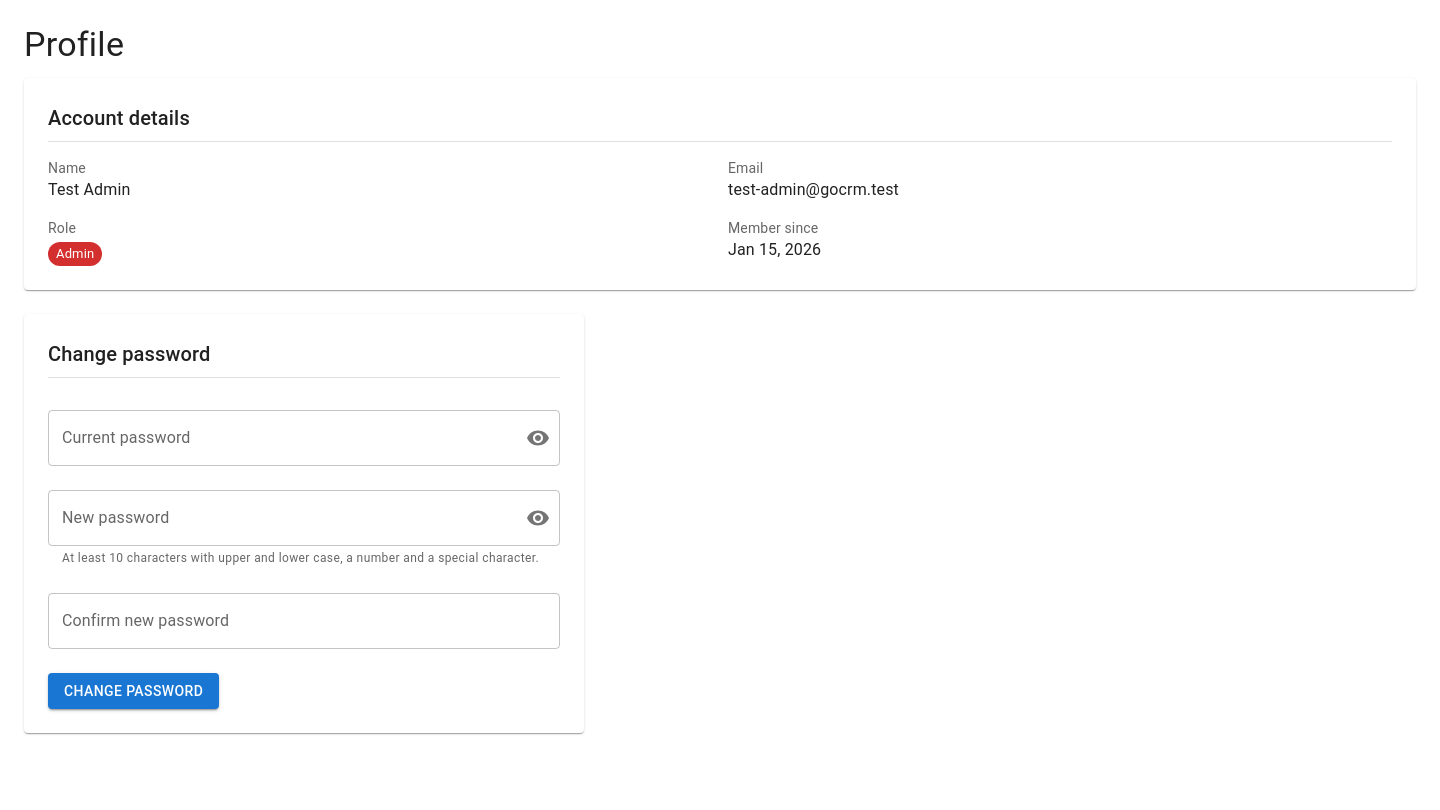
Profile › tells the user to sign in again when the session changed during the request
Type "OldStrongPass1!" into the password field labelled "Current password" at [279, 438], box [48,410,510,466]
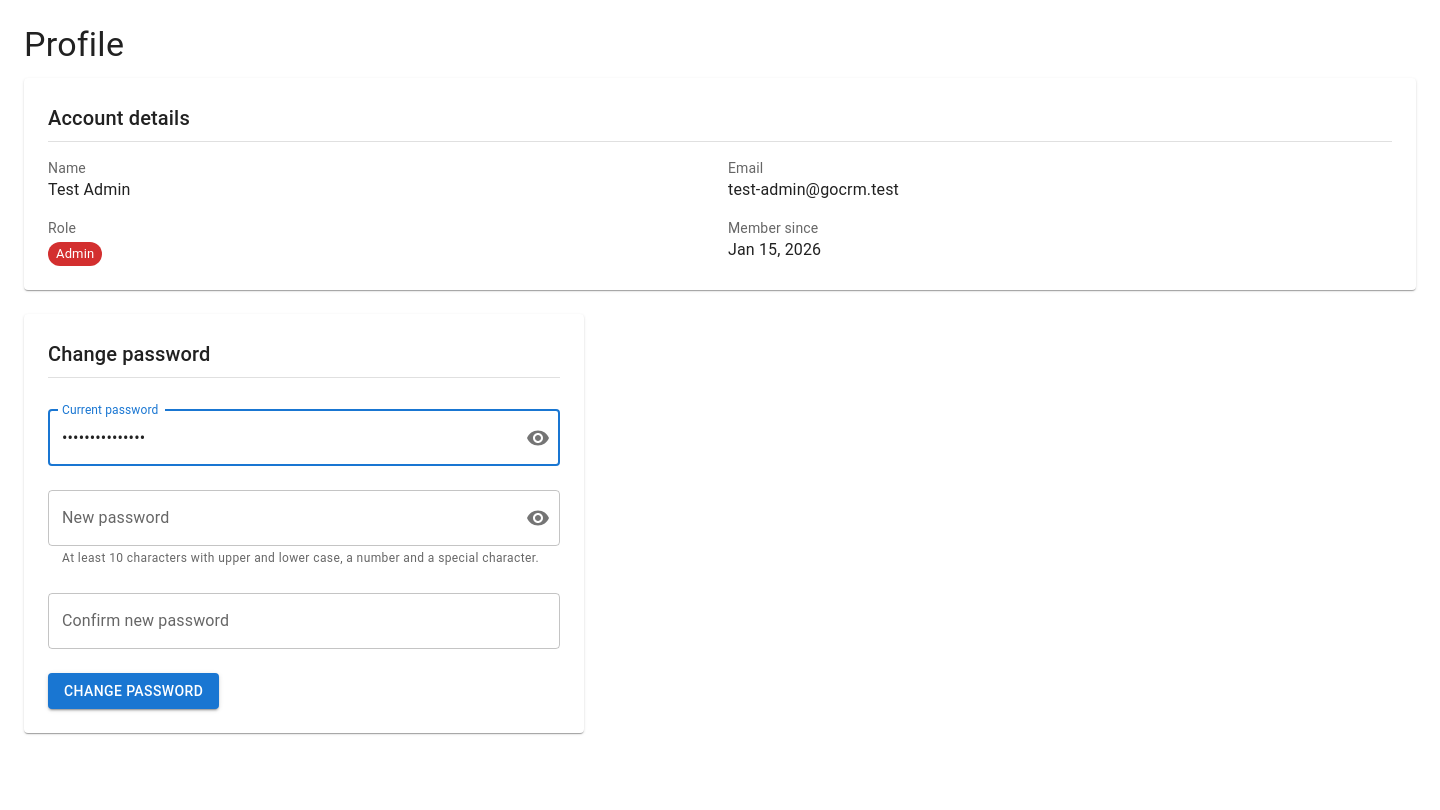
Type "NewStrongPass1!" into the password field labelled "New password" at [279, 518], box [48,490,510,546]
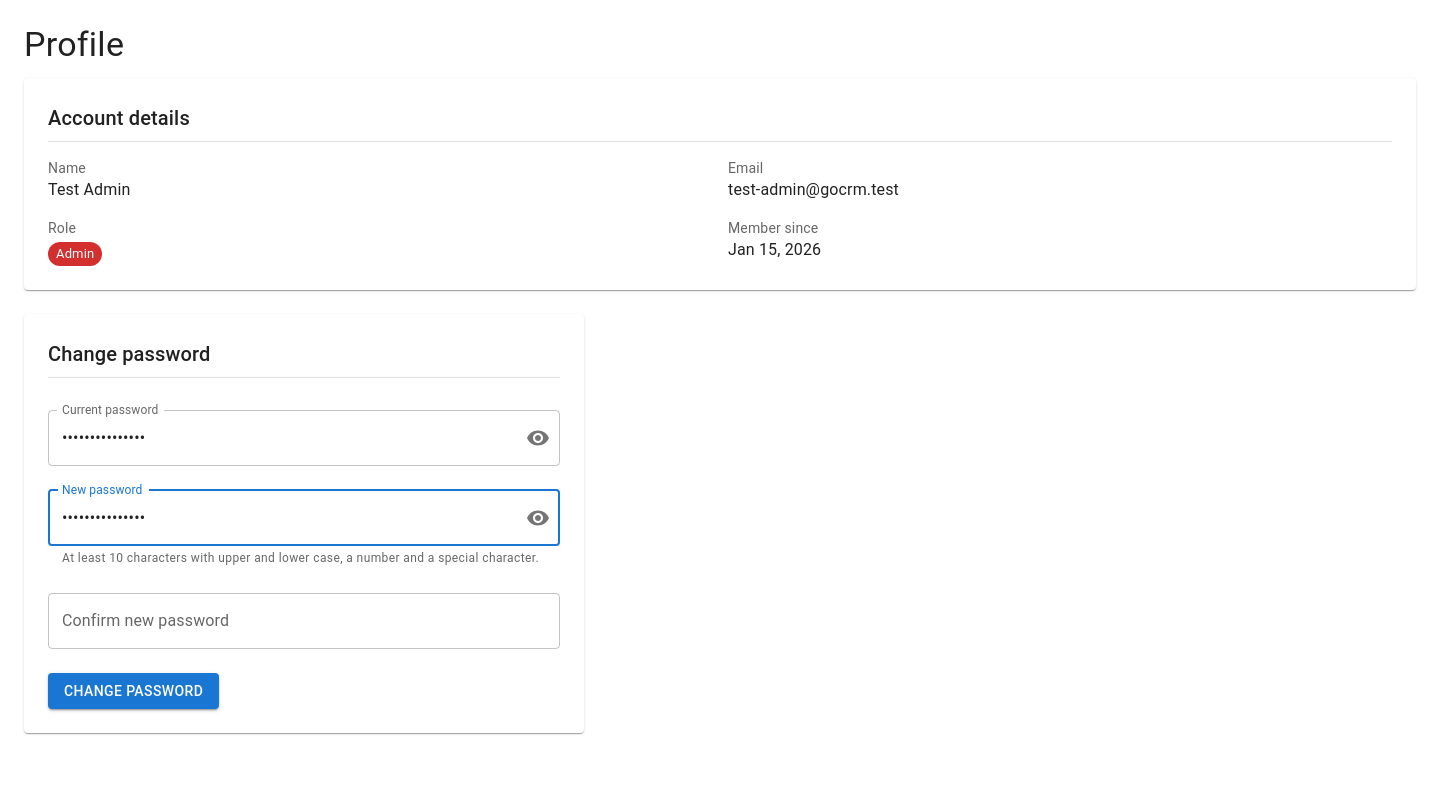
Type "NewStrongPass1!" into the password field labelled "Confirm new password" at [304, 621], box [48,593,560,649]
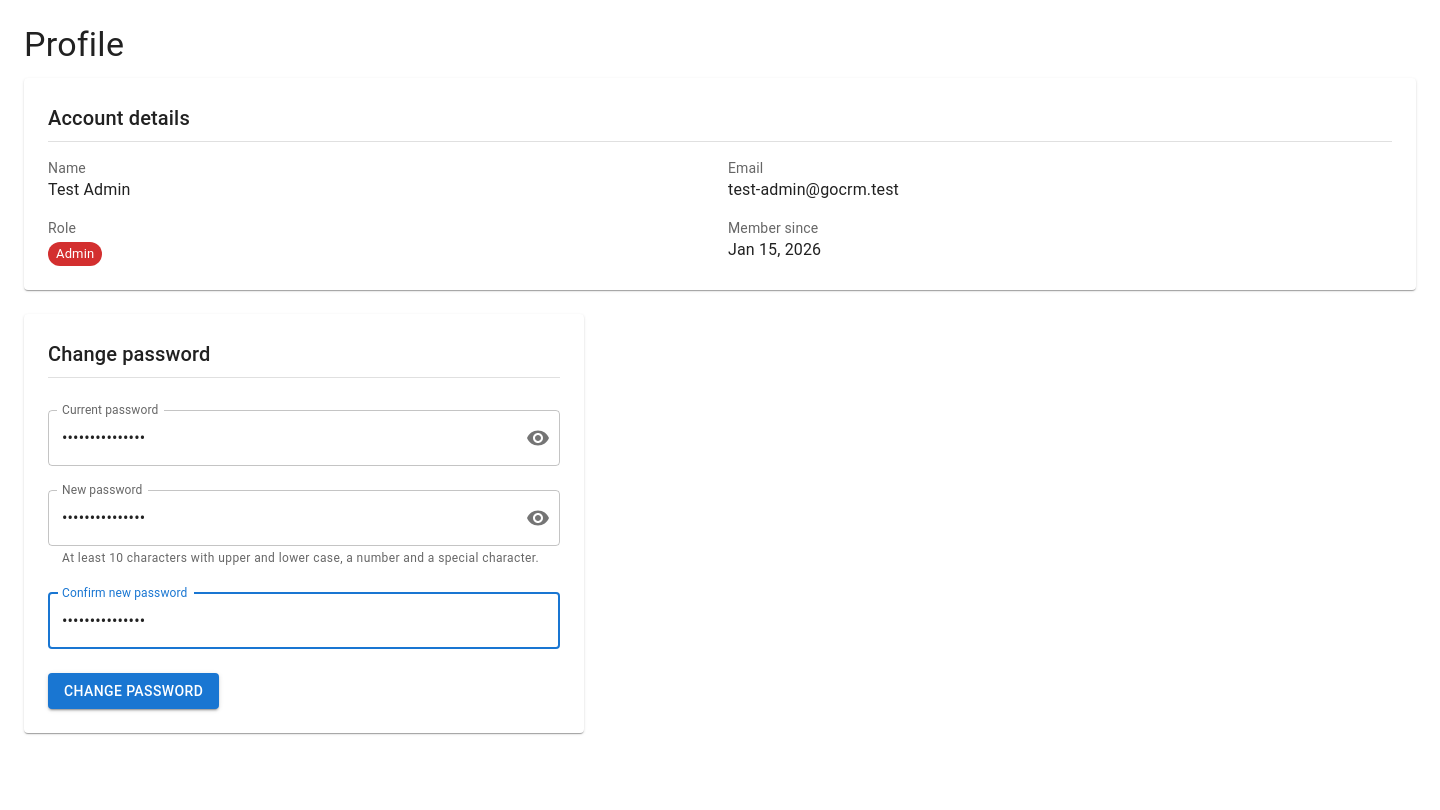
Click the button "Change password" at [134, 691], box [48,673,219,709]
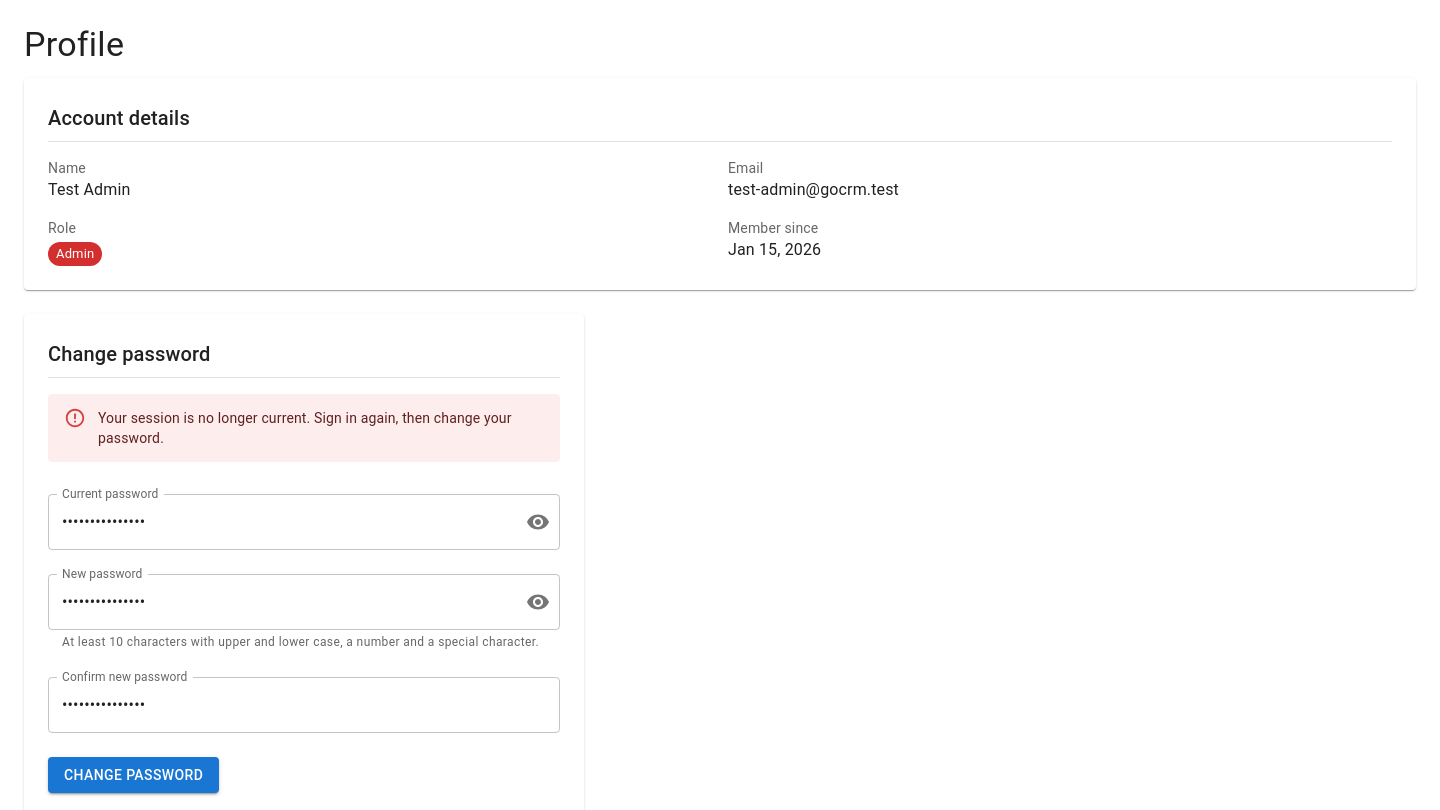
Check: the text "Sign in again, then change your password" is shown, box [98,410,512,446]
